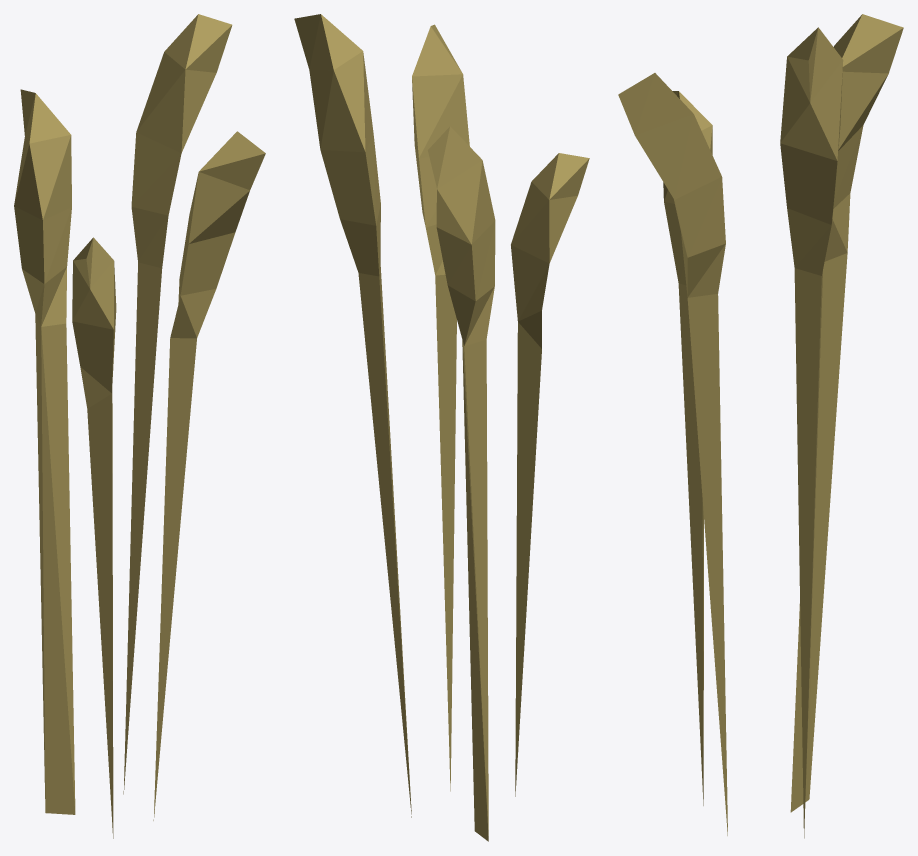
Rendered from Wheat.lod2.glb.
The picture shows the model from 3 angles, left to right: view 1: azimuth 30°, elevation 25°; view 2: azimuth 150°, elevation 25°; view 3: azimuth 270°, elevation 25°; orthographic projection. The views are drawn at different scales.
Visible parts, largest first — view 1: Wheat; view 2: Wheat; view 3: Wheat.
Boxes of the visible parts, left/top/right/bottom form: Wheat: left=14, top=14, right=265, bottom=838; Wheat: left=294, top=14, right=589, bottom=841; Wheat: left=618, top=14, right=903, bottom=838.
Size of the model in its own units: 0.3141 by 1.06 by 0.3195.
